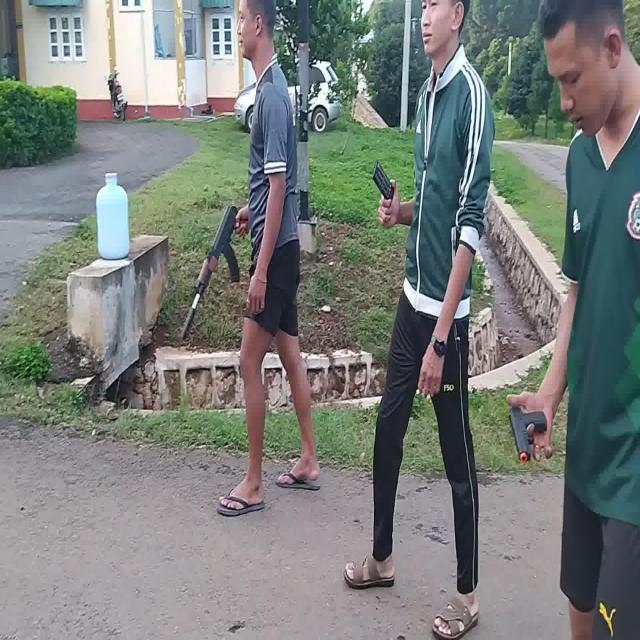gun: (182, 207, 250, 338), (510, 406, 548, 458)
